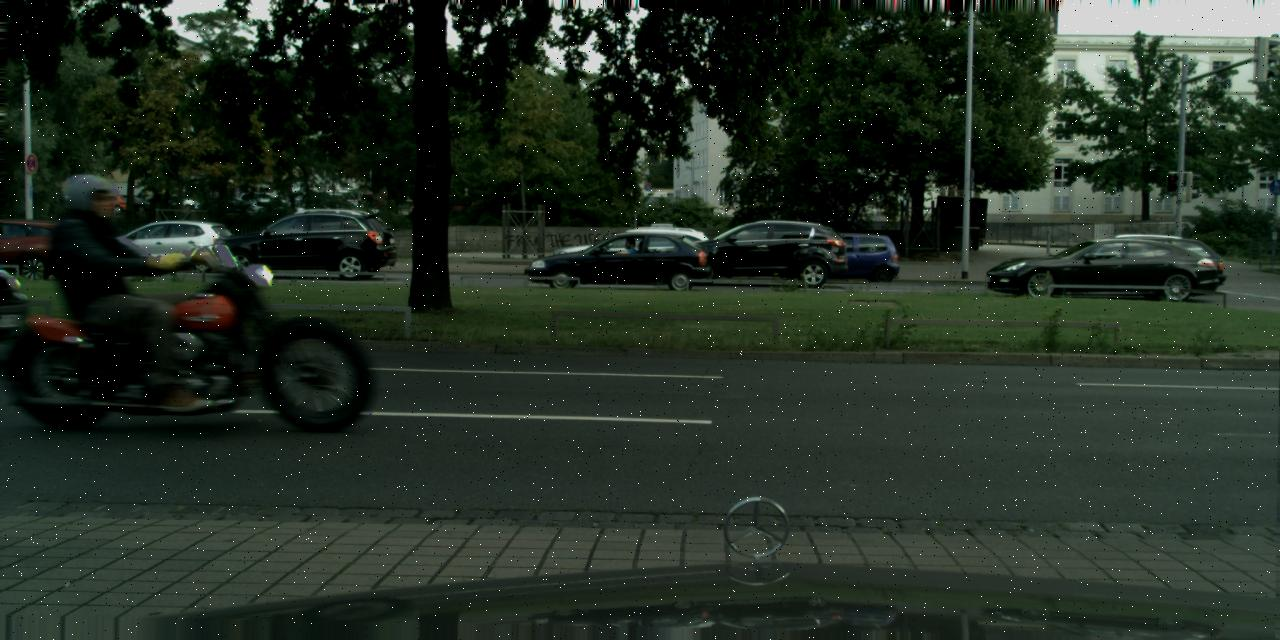ped: (80, 174, 176, 411)
